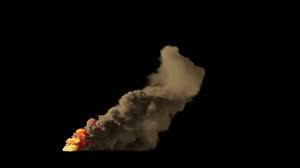smoke: (86, 45, 206, 150)
